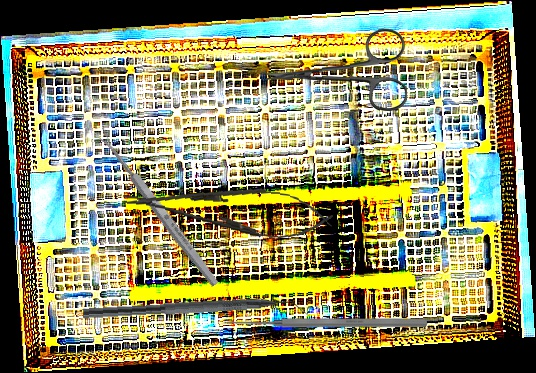Chopper: (82, 292, 311, 334)
Iris Scissors: (264, 27, 408, 116)
Needle Holder: (118, 173, 336, 245)
Pusher: (226, 316, 427, 329)
Surgical Spoon: (94, 126, 221, 289)
